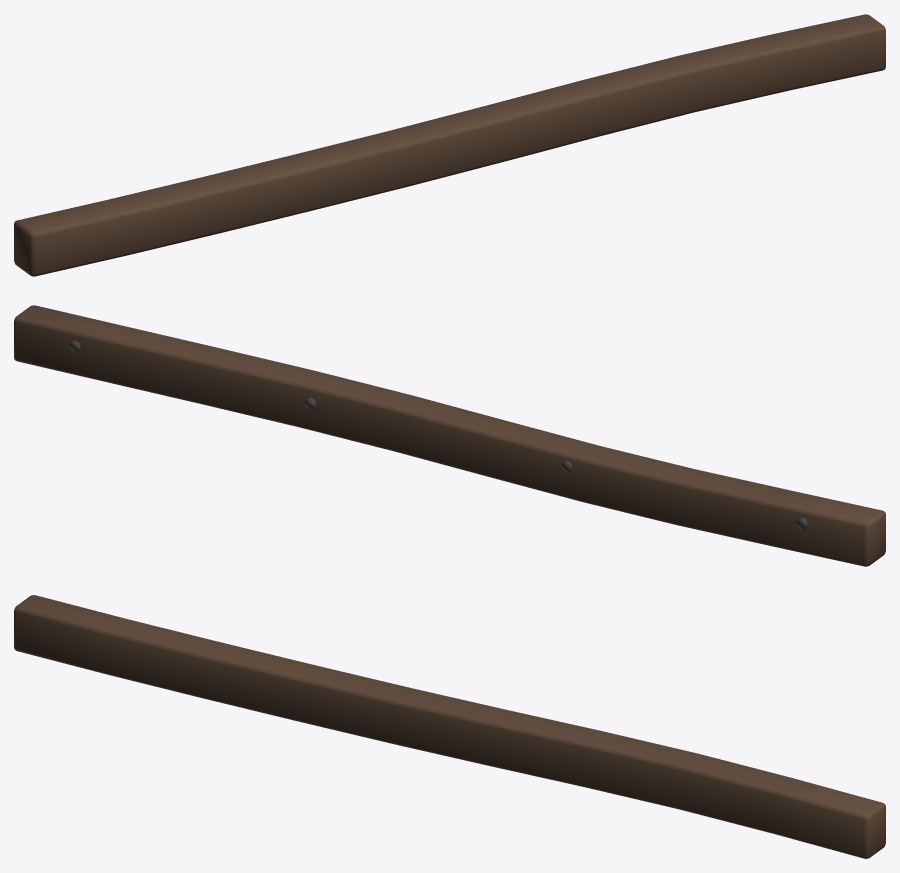
File: dock_edge.glb
3 views of the same model, one above another, from view 1: azimuth 30°, elevation 25°; view 2: azimuth 150°, elevation 25°; view 3: azimuth 330°, elevation 25° (orthographic).
Visible parts, largest first — view 1: Dock_Edge_Beam; view 2: Dock_Edge_Beam; view 3: Dock_Edge_Beam.
Part boxes in pixels (bbox=[...]): Dock_Edge_Beam: bbox=[14, 14, 885, 276]; Dock_Edge_Beam: bbox=[14, 305, 885, 566]; Dock_Edge_Beam: bbox=[14, 595, 885, 858].
Bounding box in the file's own units: 4 × 0.2228 × 0.178.
